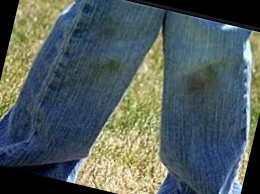earth: (185, 61, 220, 98), (98, 54, 124, 74)
